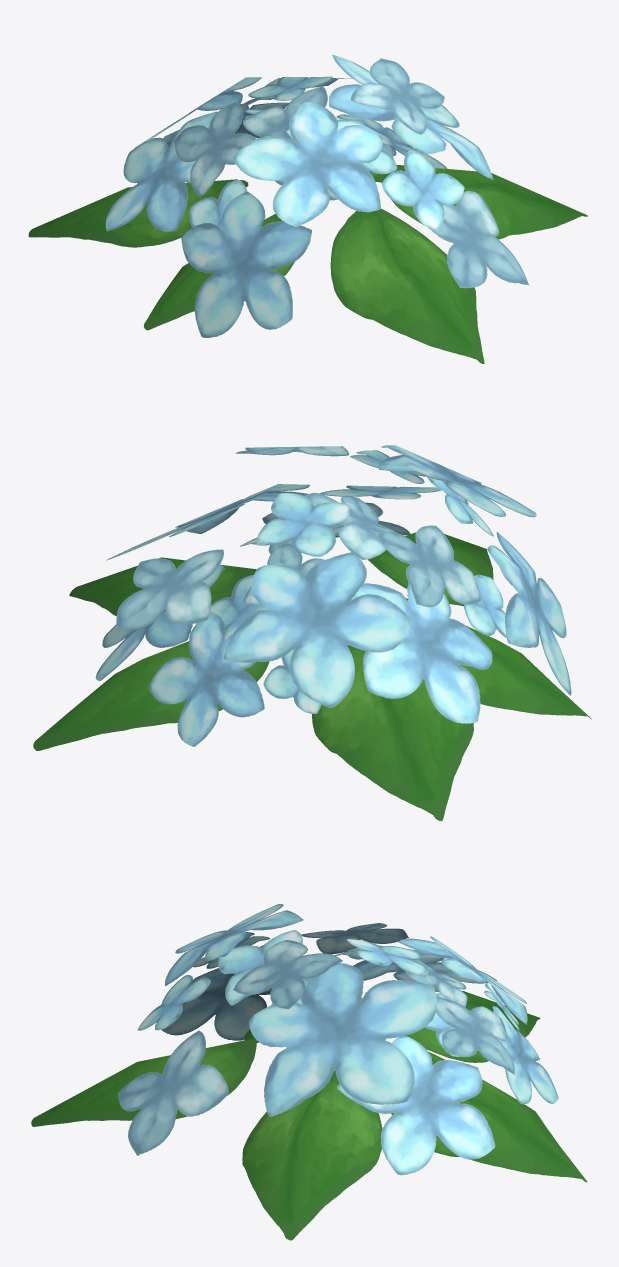
The model's file is Plant_06a.fbx.
The picture shows the model from 3 angles, top to bottom: view 1: azimuth 30°, elevation 25°; view 2: azimuth 150°, elevation 25°; view 3: azimuth 270°, elevation 25°; orthographic projection. The views are drawn at different scales.
Parts seen in each view (by area): view 1: Plant_06a; view 2: Plant_06a; view 3: Plant_06a.
Part boxes in pixels (x1,y1,x2,y2): Plant_06a: (28,54,587,363); Plant_06a: (33,445,591,821); Plant_06a: (31,904,587,1240).
Size of the model in its own units: 87.21 by 39.86 by 92.05.
